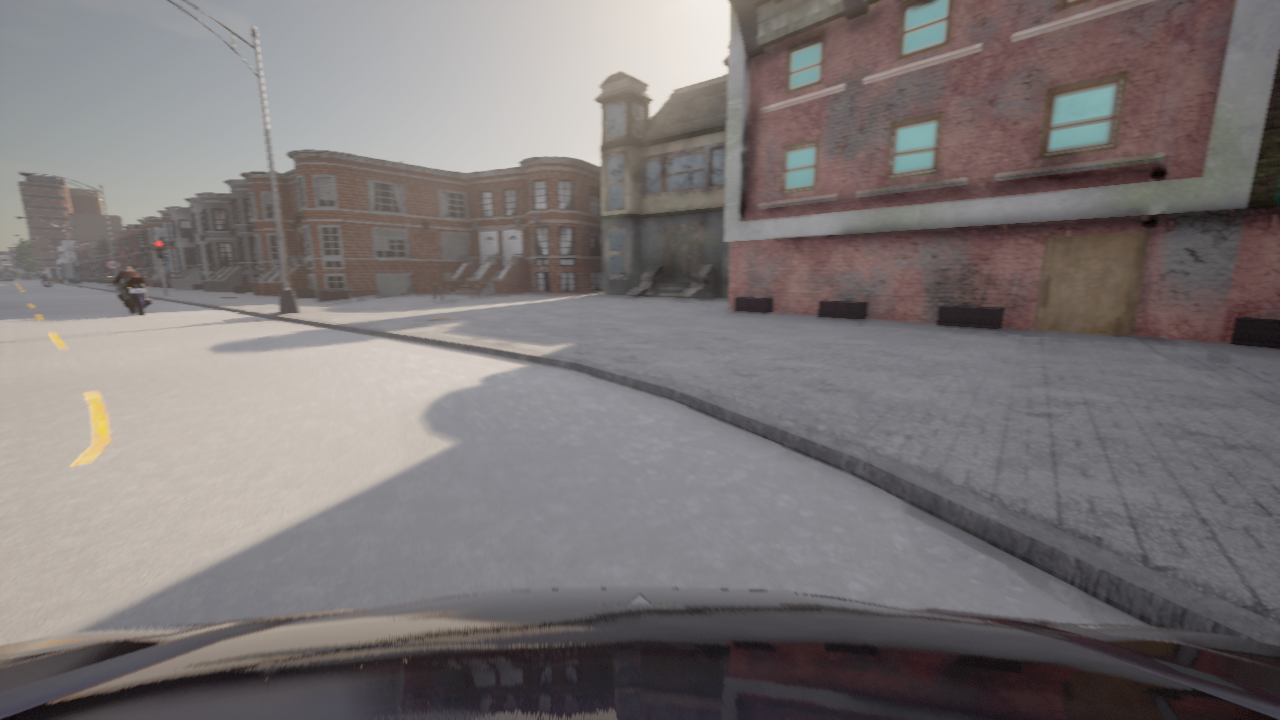cyclist: (0, 588, 1279, 719), (108, 276, 151, 315), (43, 279, 49, 286)
pedestrian: (133, 265, 142, 275)
